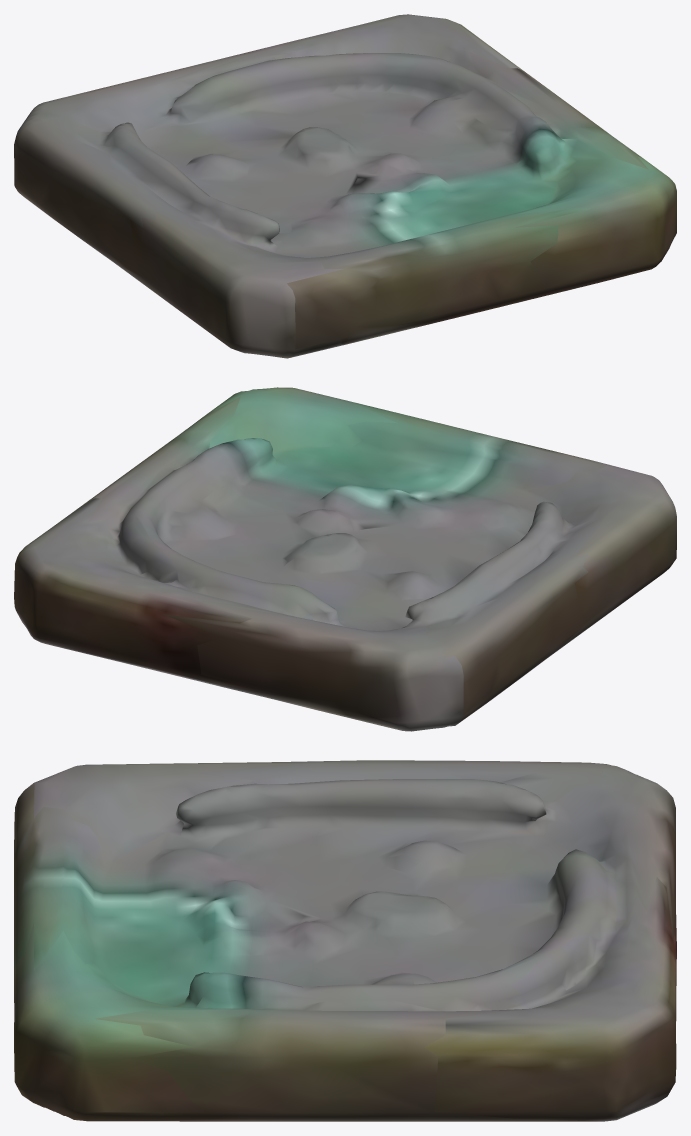
Rendered from s10_poca_agua.glb.
3 renders of one model, top to bottom at view 1: azimuth 30°, elevation 25°; view 2: azimuth 150°, elevation 25°; view 3: azimuth 270°, elevation 25°, orthographic. The views are drawn at different scales.
Parts seen in each view (by area): view 1: s10_poca_agua; view 2: s10_poca_agua; view 3: s10_poca_agua.
Boxes of the visible parts, x1,y1,x2,y2 form: s10_poca_agua: (14, 14, 676, 358); s10_poca_agua: (14, 387, 676, 731); s10_poca_agua: (14, 760, 676, 1121).
Bounding box in the file's own units: 0.9434 × 0.1748 × 0.9477.
1 material, 1 textured.
